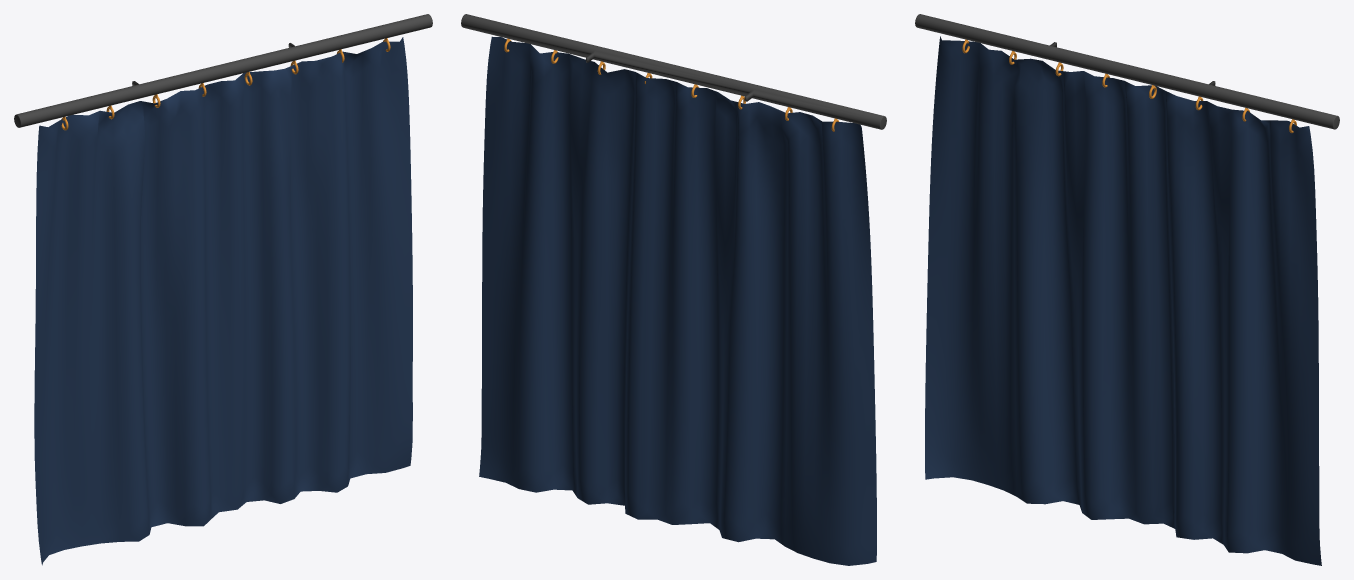
The model's file is Cortina 1.fbx.
3 renders of one model, left to right at view 1: azimuth 30°, elevation 25°; view 2: azimuth 150°, elevation 25°; view 3: azimuth 330°, elevation 25°, orthographic.
Visible parts, largest first — view 1: Cortina; view 2: Cortina; view 3: Cortina.
Part boxes in pixels (x1,y1,x2,y2): Cortina: [14, 14, 432, 565]; Cortina: [461, 14, 886, 565]; Cortina: [915, 14, 1339, 565].
Size of the model in its own units: 206 by 214 by 16.22.
